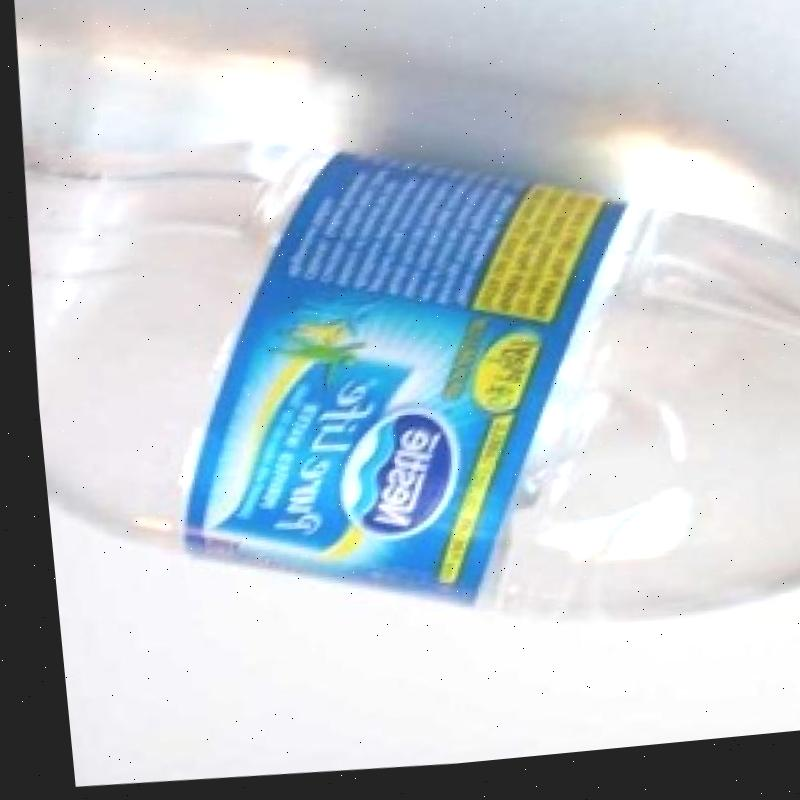botella: (10, 67, 800, 681)
